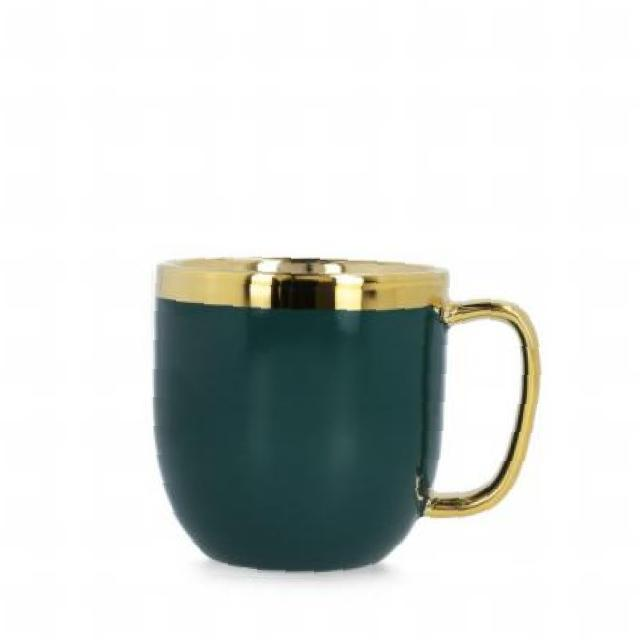cup: (138, 243, 553, 587)
